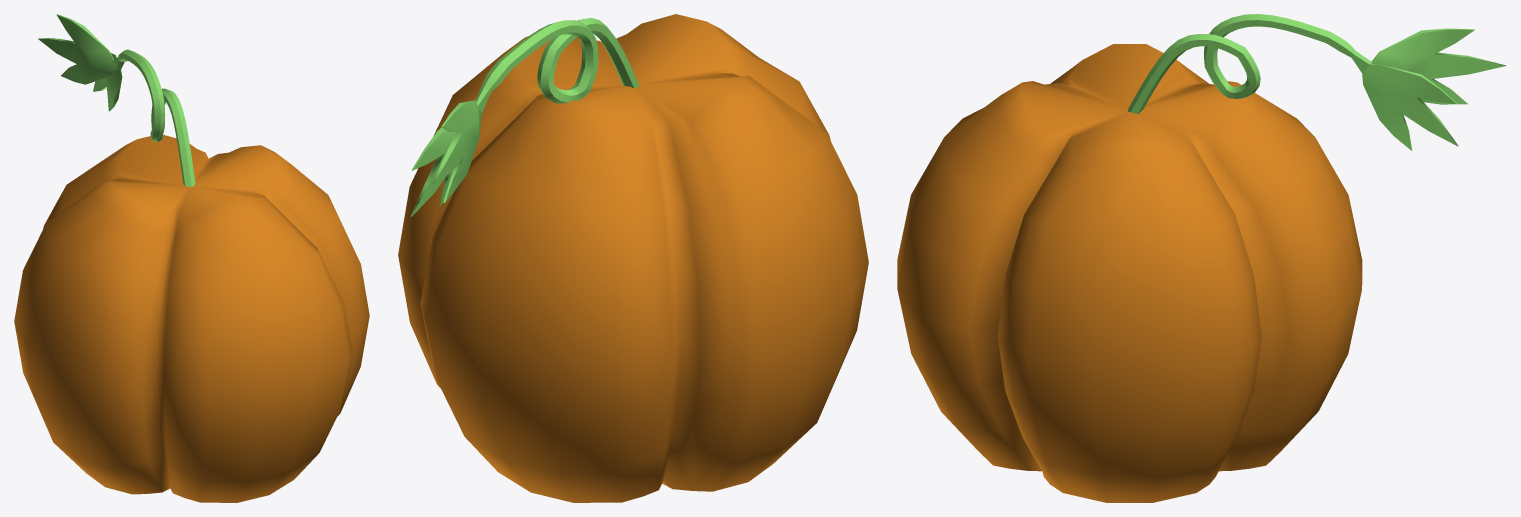
File: panpukinbakudan.FBX
The picture shows the model from 3 angles, left to right: view 1: azimuth 30°, elevation 25°; view 2: azimuth 150°, elevation 25°; view 3: azimuth 270°, elevation 25°; orthographic projection. The views are drawn at different scales.
Visible parts, largest first — view 1: pampukinbom; view 2: pampukinbom; view 3: pampukinbom.
Part boxes in pixels (x1,y1,x2,y2): pampukinbom: [14, 14, 369, 502]; pampukinbom: [398, 14, 868, 502]; pampukinbom: [897, 14, 1505, 502].
Bounding box in the file's own units: 106 × 120 × 151.
